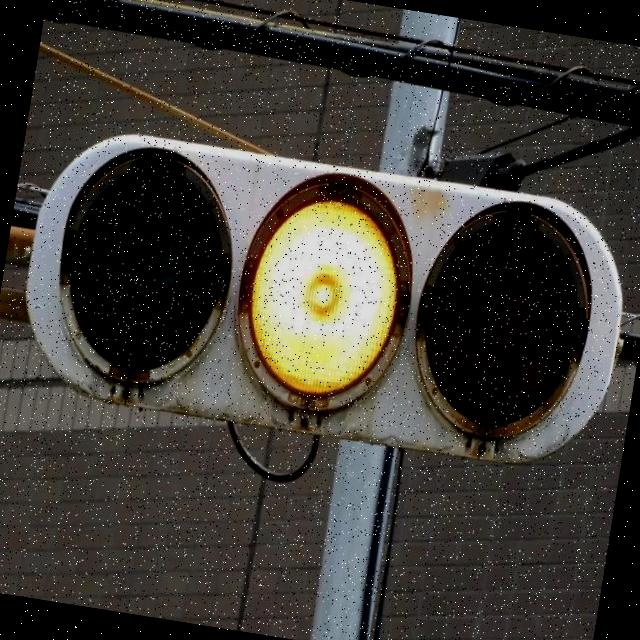yellow_light: (266, 189, 424, 444)
